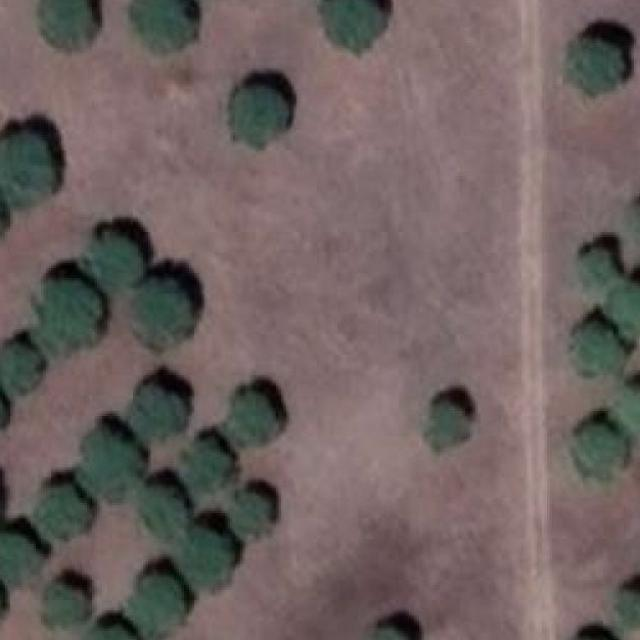Tree: (125, 273, 197, 347), (39, 273, 102, 348), (564, 28, 631, 94), (84, 429, 148, 497), (0, 127, 59, 197), (129, 567, 189, 631), (228, 82, 288, 144), (33, 0, 99, 54), (182, 523, 240, 584), (133, 0, 194, 52), (86, 232, 140, 290), (323, 0, 383, 52), (230, 387, 281, 446), (130, 383, 184, 438), (568, 324, 620, 381), (137, 480, 186, 534), (574, 430, 624, 480), (183, 440, 230, 492), (35, 491, 82, 543), (228, 486, 276, 536), (0, 528, 48, 578), (424, 396, 472, 444), (576, 242, 620, 294), (0, 338, 41, 393), (40, 580, 89, 622), (609, 278, 640, 336), (615, 583, 640, 633), (84, 615, 133, 640), (619, 385, 640, 433), (0, 383, 14, 435), (0, 194, 14, 243), (367, 625, 409, 640), (0, 576, 10, 626), (0, 480, 5, 530)
